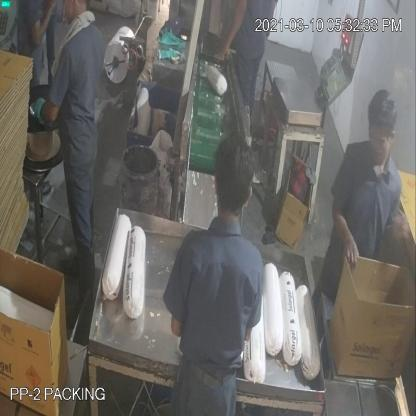no_glove: (326, 184, 362, 275), (216, 1, 250, 65)
